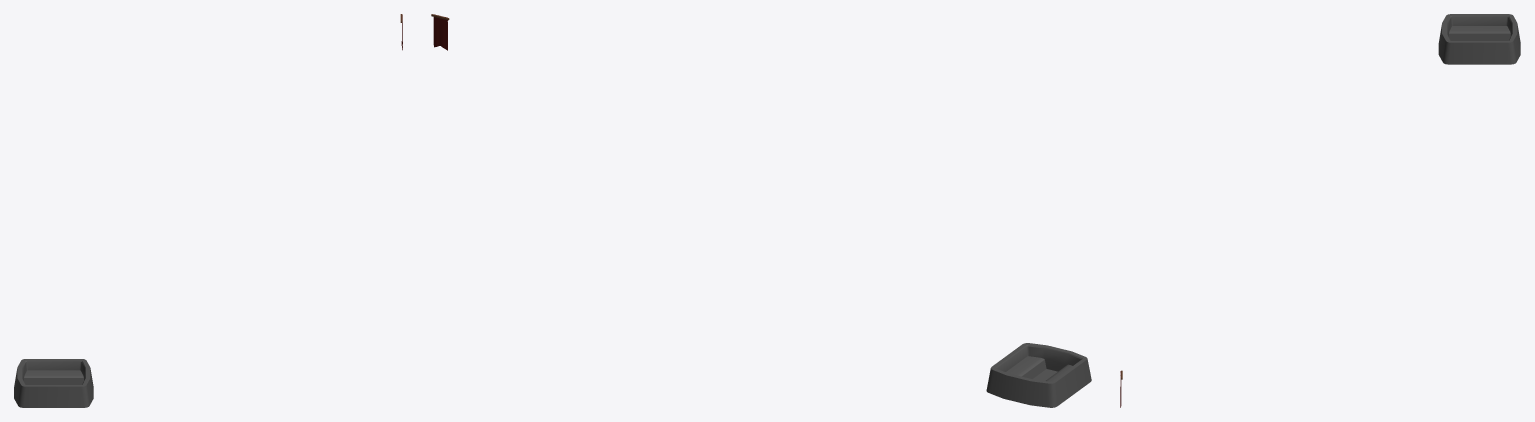
File: banner.fbx
3 renders of one model, left to right at view 1: azimuth 90°, elevation 25°; view 2: azimuth 150°, elevation 25°; view 3: azimuth 270°, elevation 25°, orthographic. The views are drawn at different scales.
Visible parts, largest first — view 1: Bath; view 2: Bath; view 3: Bath.
Part boxes in pixels (x1=…): Bath: x1=14, y1=359, x2=93, y2=407; Bath: x1=986, y1=343, x2=1091, y2=407; Bath: x1=1438, y1=14, x2=1520, y2=64.
Size of the model in its own units: 3004 by 1354 by 114.
